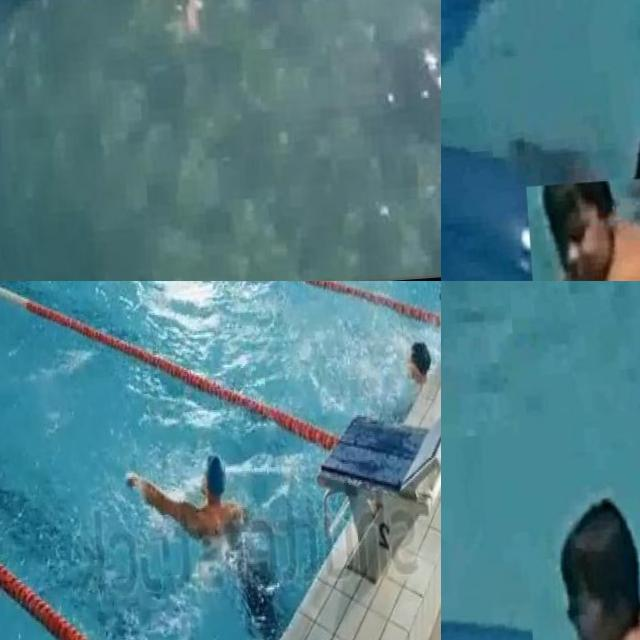drowning: (536, 105, 618, 178)
swimming: (518, 444, 640, 640), (524, 172, 640, 281), (135, 444, 242, 559), (404, 331, 436, 389)
